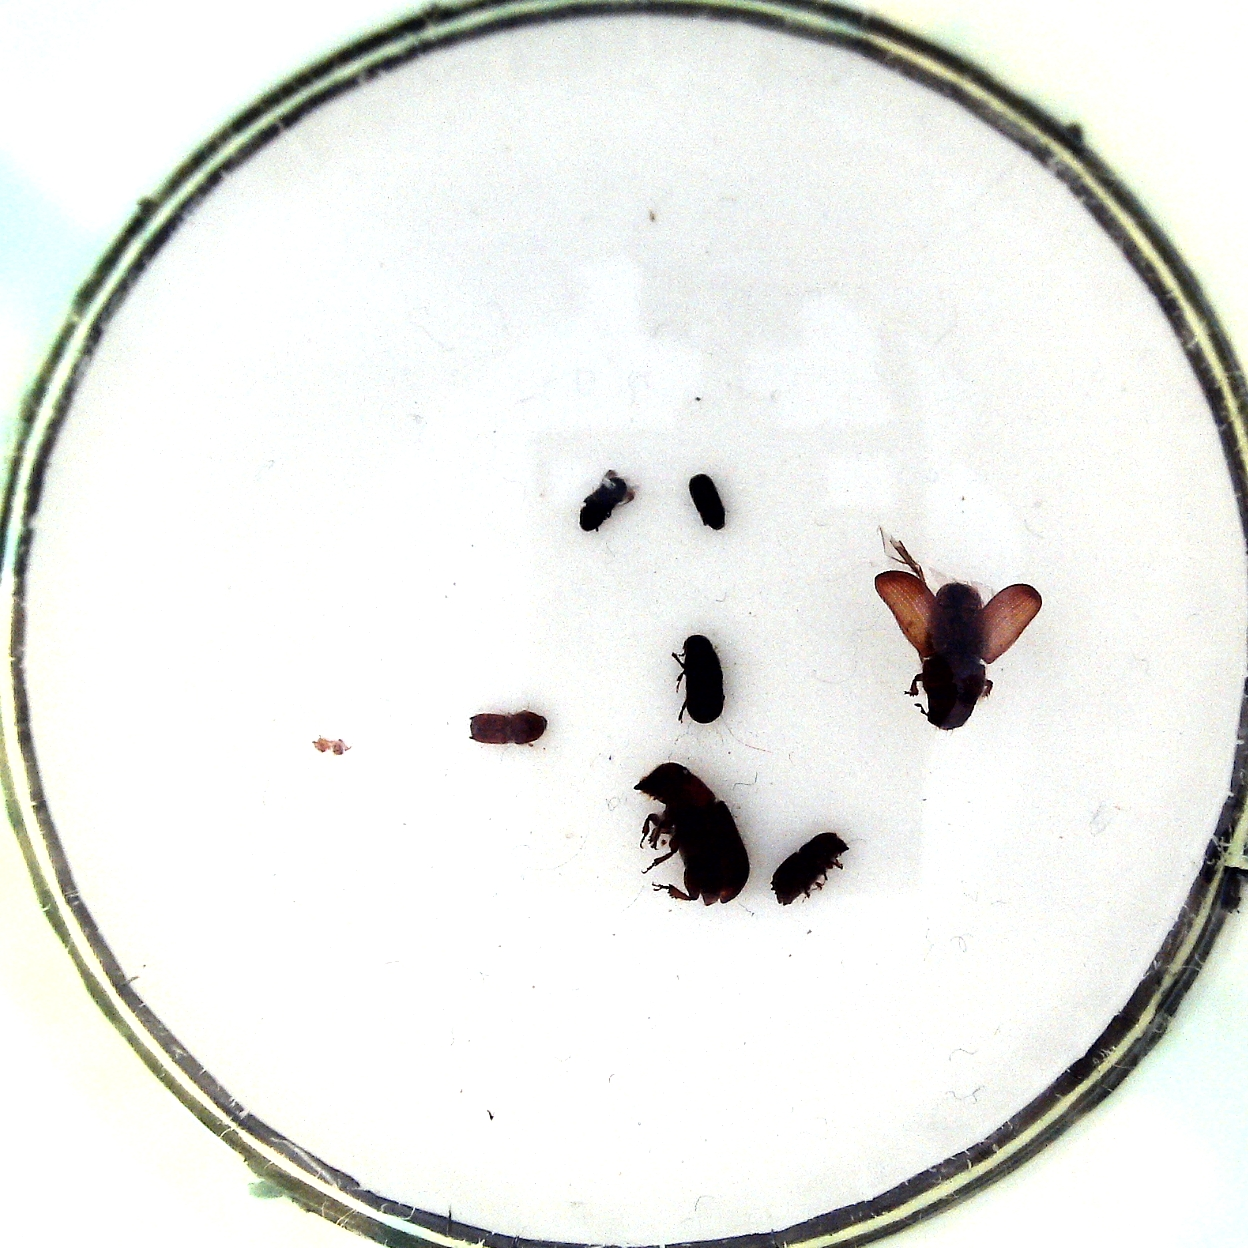Leconte: (869, 522, 1050, 730), (631, 760, 752, 917)
Linnaeus: (765, 829, 854, 912)
acuminatus: (463, 703, 550, 752)
armandi: (667, 630, 731, 729)
coleoptera: (576, 470, 642, 537), (681, 473, 734, 535)
